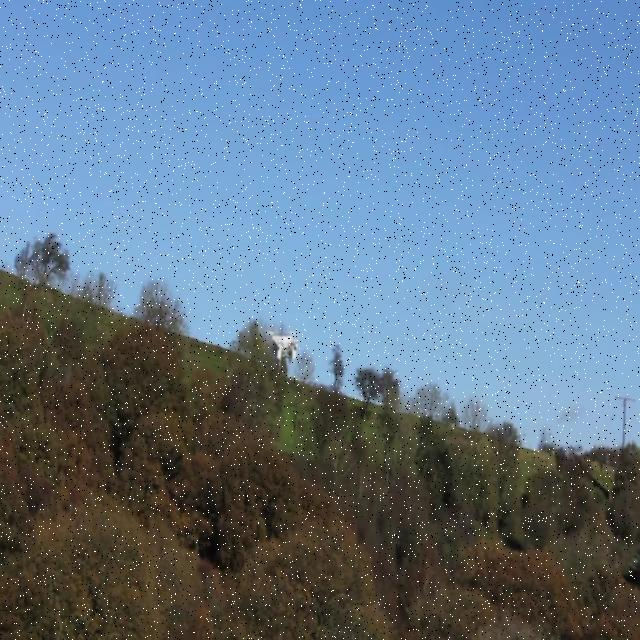UAV: (266, 332, 298, 366)
